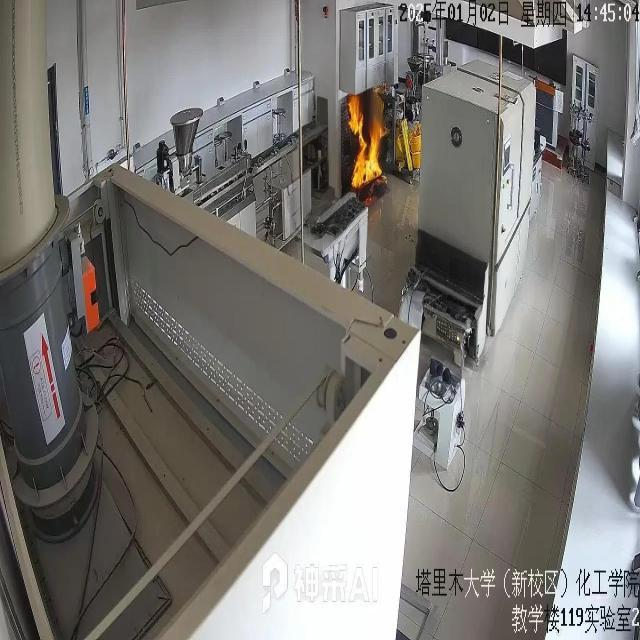smoke: (345, 90, 386, 194)
